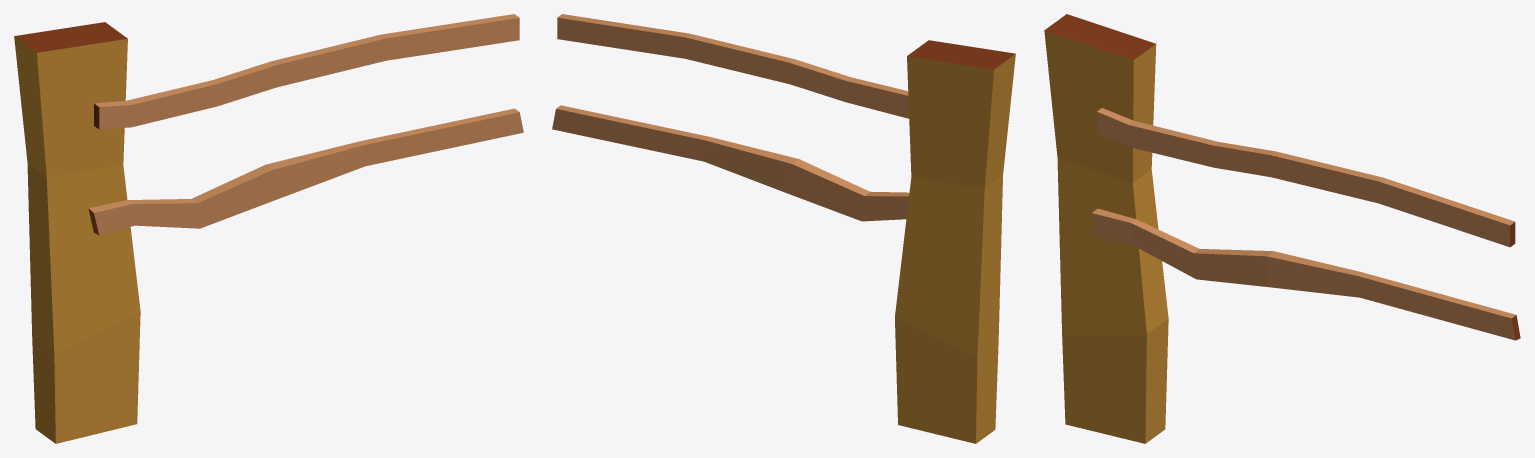
Rendered from płot.fbx.
The picture shows the model from 3 angles, left to right: view 1: azimuth 30°, elevation 25°; view 2: azimuth 150°, elevation 25°; view 3: azimuth 330°, elevation 25°; orthographic projection. The views are drawn at different scales.
Visible parts, largest first — view 1: Kostka; view 2: Kostka; view 3: Kostka.
Part boxes in pixels (left/top/right/bottom): Kostka: left=14, top=14, right=523, bottom=443; Kostka: left=552, top=14, right=1015, bottom=443; Kostka: left=1044, top=14, right=1520, bottom=443.
Size of the model in its own units: 1090 by 855 by 108.
